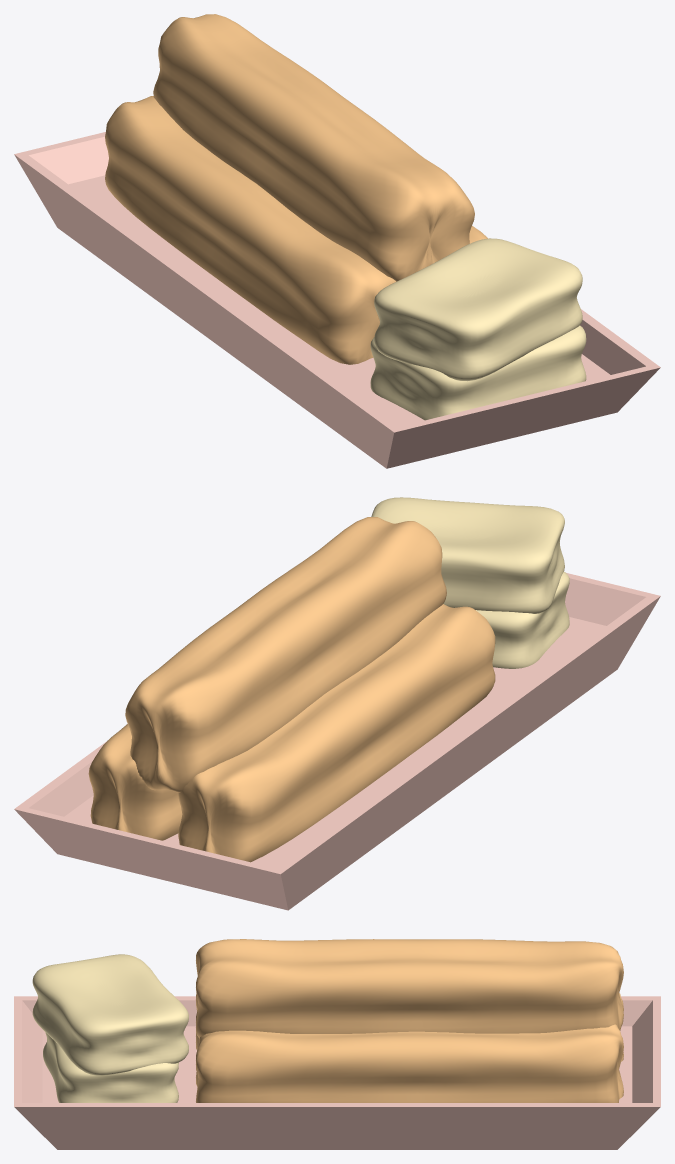
Rendered from tofubox1.fbx.
3 views of the same model, one above another, from view 1: azimuth 30°, elevation 25°; view 2: azimuth 150°, elevation 25°; view 3: azimuth 270°, elevation 25° (orthographic). The views are drawn at different scales.
Parts seen in each view (by area): view 1: Sphere.091, Cube.025, Sphere.085, Sphere.090, Sphere.086; view 2: Sphere.091, Cube.025, Sphere.085, Sphere.090, Sphere.089, Sphere.086; view 3: Sphere.091, Cube.025, Sphere.089, Sphere.090, Sphere.086.
Part boxes in pixels (box(x1,y1,x2,y2)): Sphere.091: box(153, 14, 474, 281); Cube.025: box(14, 132, 660, 468); Sphere.085: box(105, 96, 396, 364); Sphere.090: box(374, 238, 582, 381); Sphere.086: box(370, 325, 586, 420); Sphere.091: box(125, 517, 446, 792); Cube.025: box(14, 573, 660, 910); Sphere.085: box(178, 604, 495, 862); Sphere.090: box(371, 497, 564, 613); Sphere.089: box(88, 724, 182, 840); Sphere.086: box(476, 571, 569, 668); Sphere.091: box(196, 939, 623, 1038); Cube.025: box(14, 996, 660, 1149); Sphere.089: box(196, 1024, 623, 1102); Sphere.090: box(32, 954, 188, 1075); Sphere.086: box(43, 1032, 178, 1102).
Size of the model in its own units: 231 by 157 by 571.
